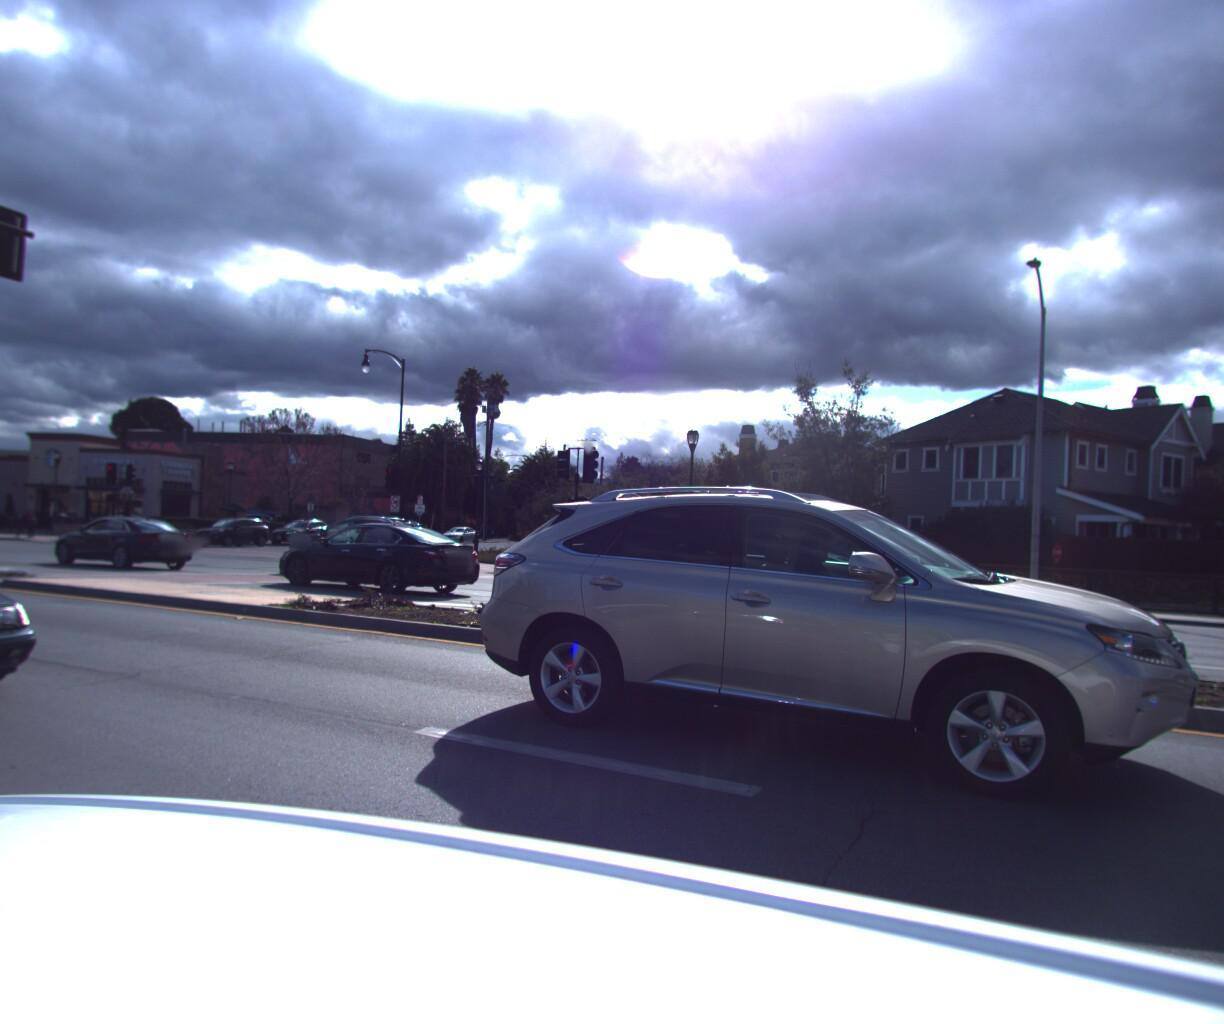car: (451, 477, 1189, 850), (261, 514, 485, 597), (777, 539, 979, 603), (276, 505, 443, 576), (37, 507, 197, 569), (187, 509, 278, 542), (263, 510, 340, 540)
